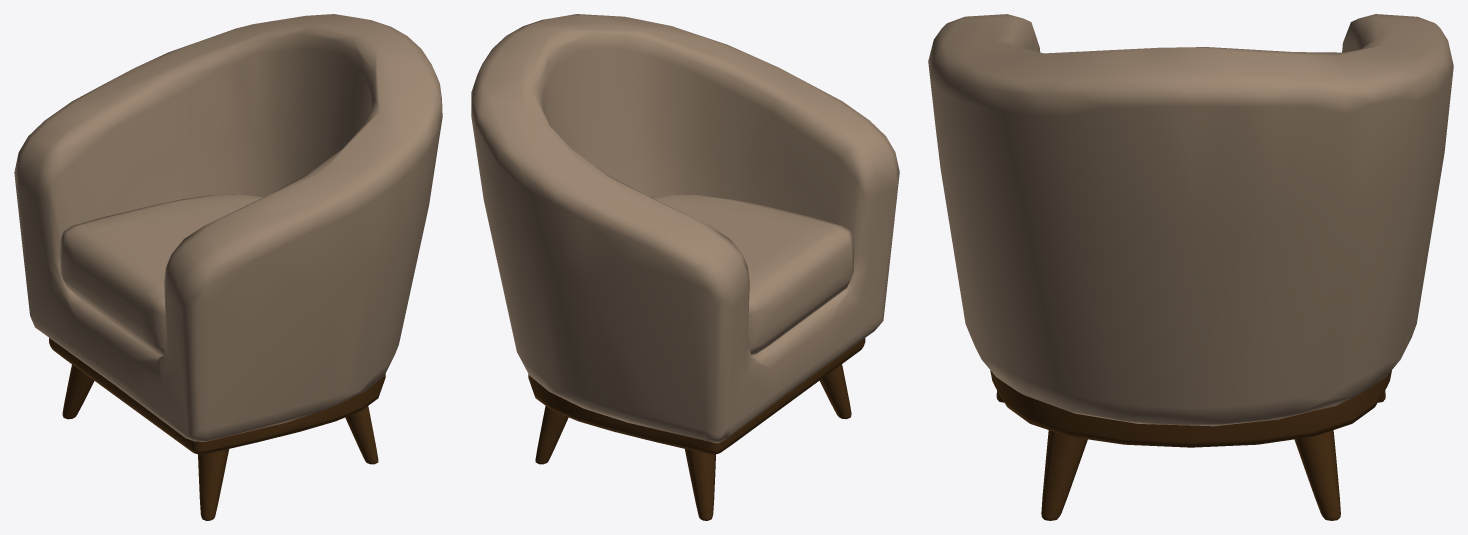
The model's file is armchair_06_light_brown.fbx.
The picture shows the model from 3 angles, left to right: view 1: azimuth 30°, elevation 25°; view 2: azimuth 150°, elevation 25°; view 3: azimuth 270°, elevation 25°; orthographic projection. The views are drawn at different scales.
Parts seen in each view (by area): view 1: armchair_06_light_brown; view 2: armchair_06_light_brown; view 3: armchair_06_light_brown.
Boxes of the visible parts, x1,y1,x2,y2 form: armchair_06_light_brown: [14, 14, 442, 520]; armchair_06_light_brown: [471, 14, 899, 520]; armchair_06_light_brown: [928, 14, 1453, 520].
Bounding box in the file's own units: 105 × 120 × 114.
2 materials, 2 textured.
